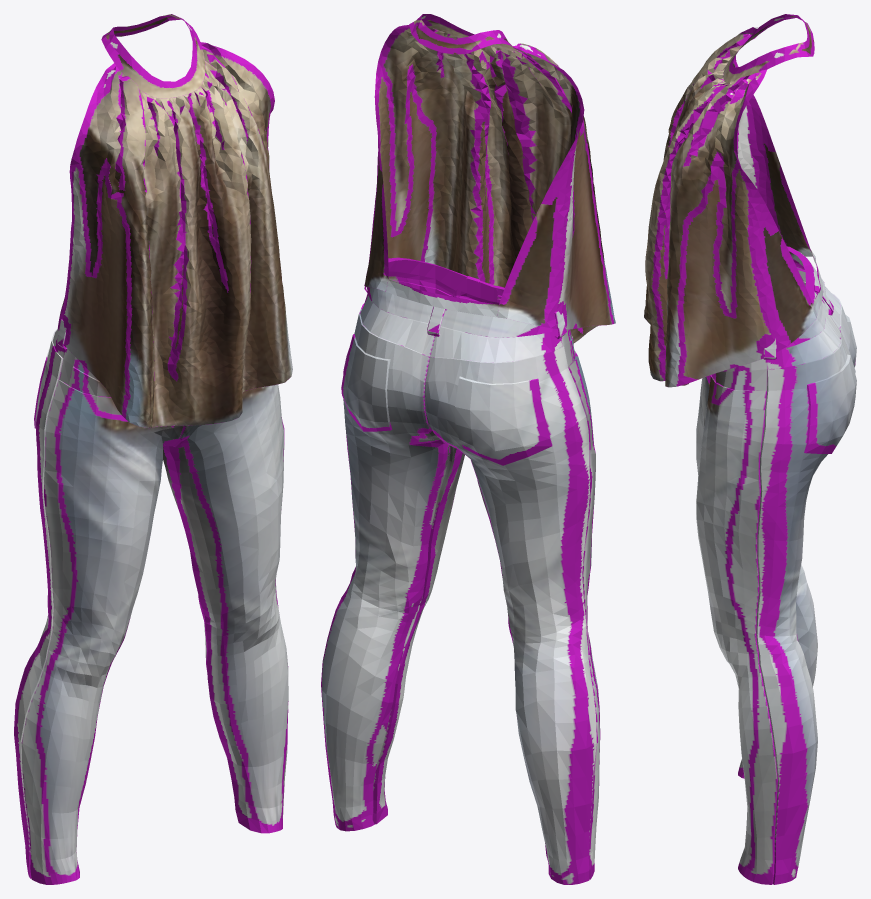
3 views of the same model, side by side, from view 1: azimuth 30°, elevation 25°; view 2: azimuth 150°, elevation 25°; view 3: azimuth 270°, elevation 25° (orthographic). The views are drawn at different scales.
Bounding box in the file's own units: 0.3144 × 0.9302 × 0.2249.
1 material, 1 textured.
